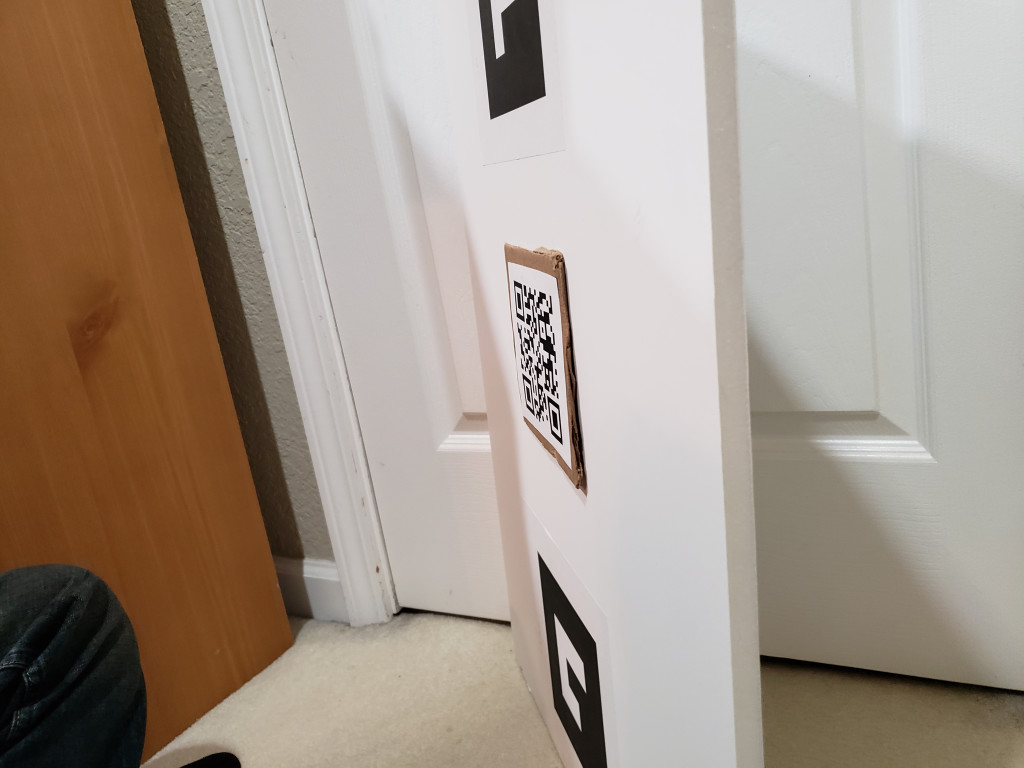QR_CODE: (502, 273, 596, 457)
